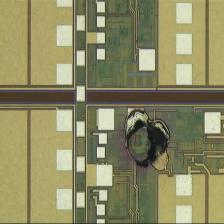PARTICLE: (124, 109, 174, 171)
